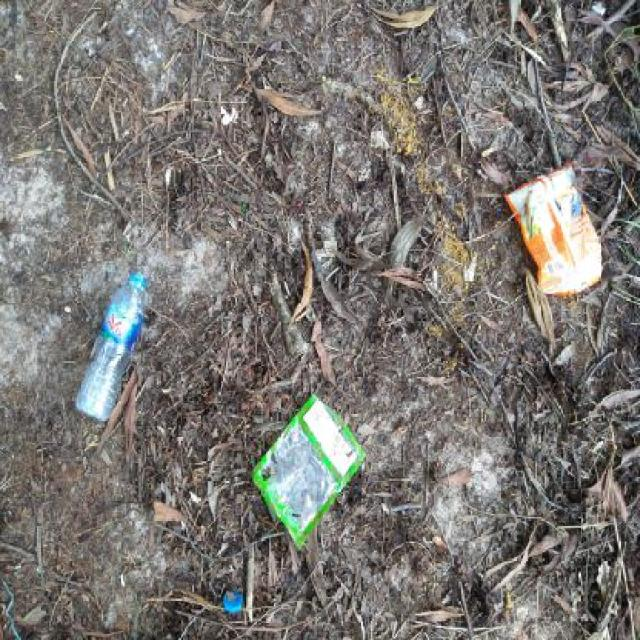plastic: (249, 393, 366, 550), (502, 163, 602, 295), (74, 270, 148, 419), (224, 591, 242, 612)
